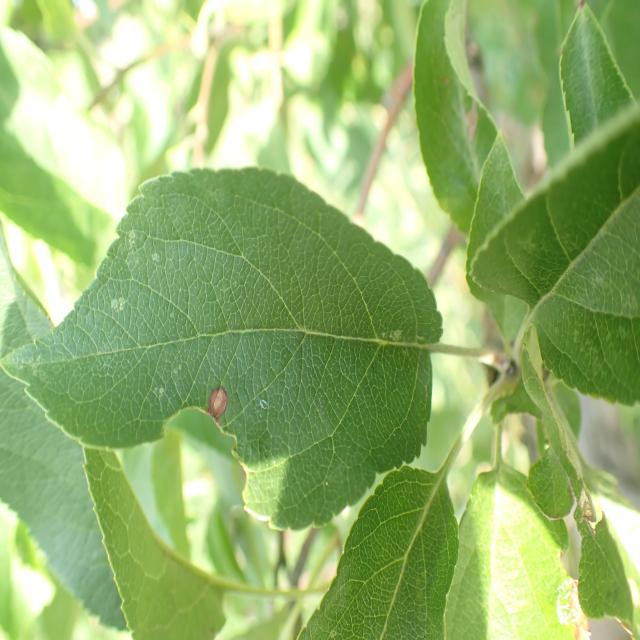frog-eye-leaf-spot: (0, 167, 445, 533)
